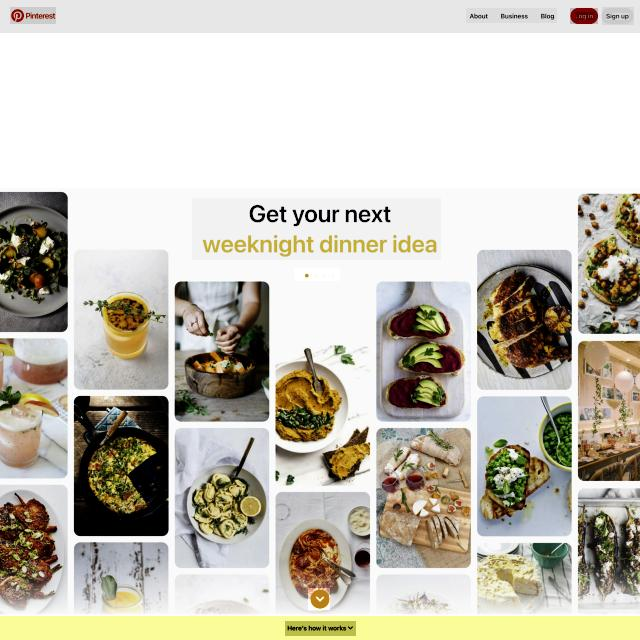CheckBox: (602, 7, 634, 25), (308, 588, 330, 610), (570, 8, 598, 24)
alert: (285, 621, 356, 636)
bag: (0, 0, 640, 33)
card: (0, 188, 640, 614)
data feed: (606, 13, 629, 20), (575, 12, 594, 20)
date picker: (10, 7, 56, 24)
decoration: (466, 8, 557, 23)
dropdown: (294, 268, 340, 281)
image: (192, 198, 441, 260)
